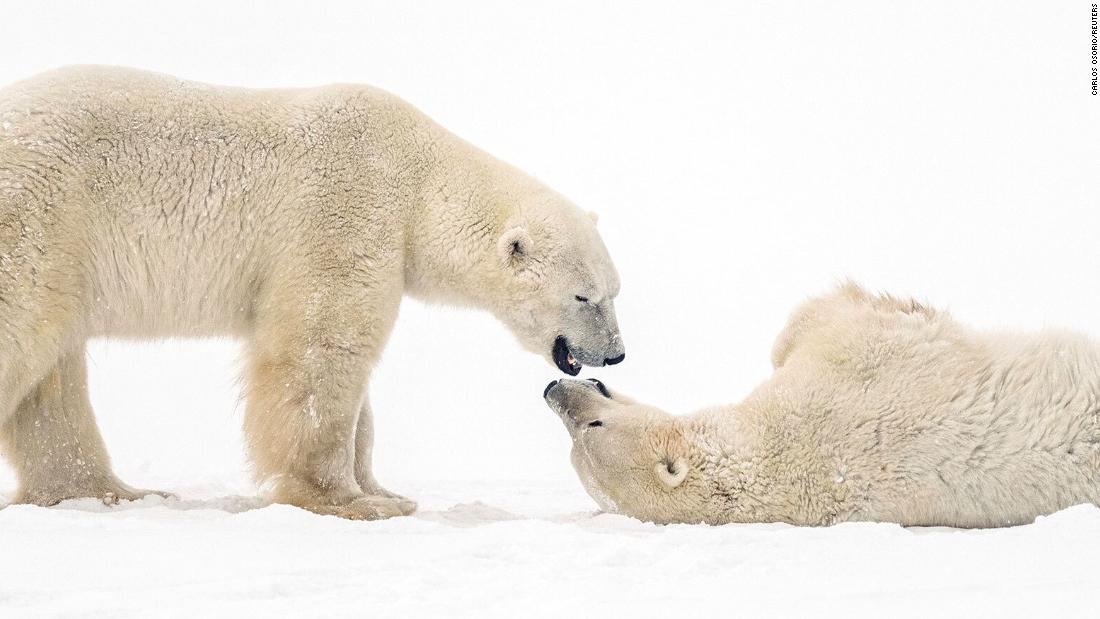PolarBear: (0, 41, 639, 534)
